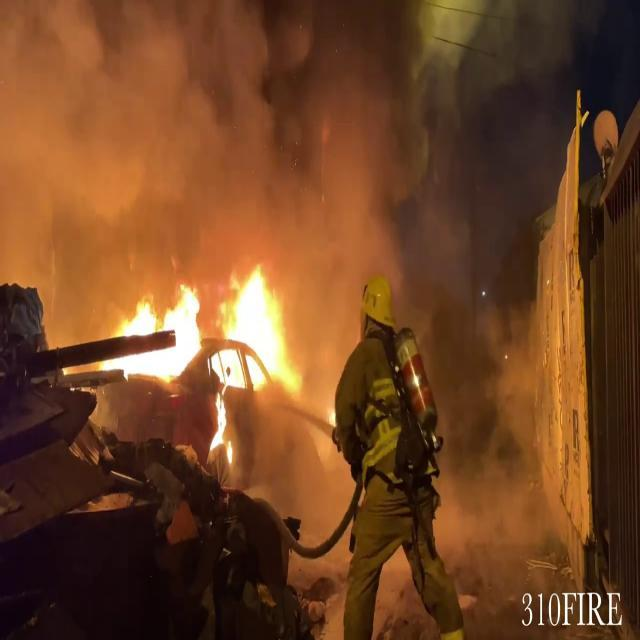Fire: (101, 259, 305, 441)
Smoke: (1, 0, 505, 308)
